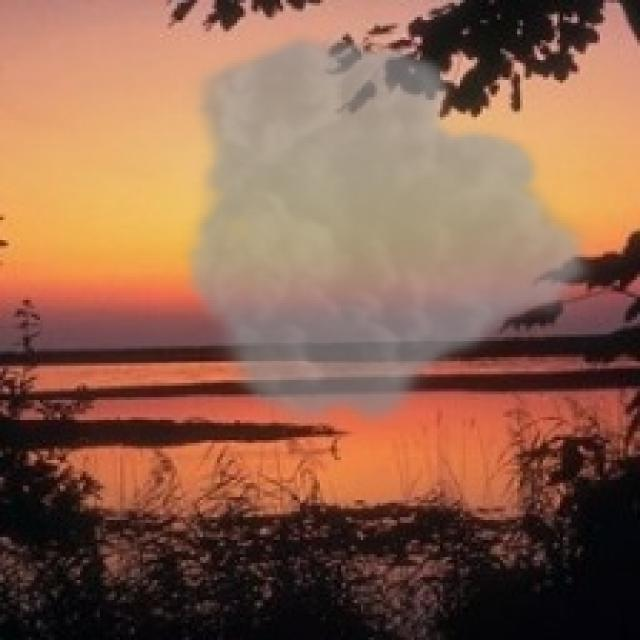Smoke: (180, 29, 600, 438)
